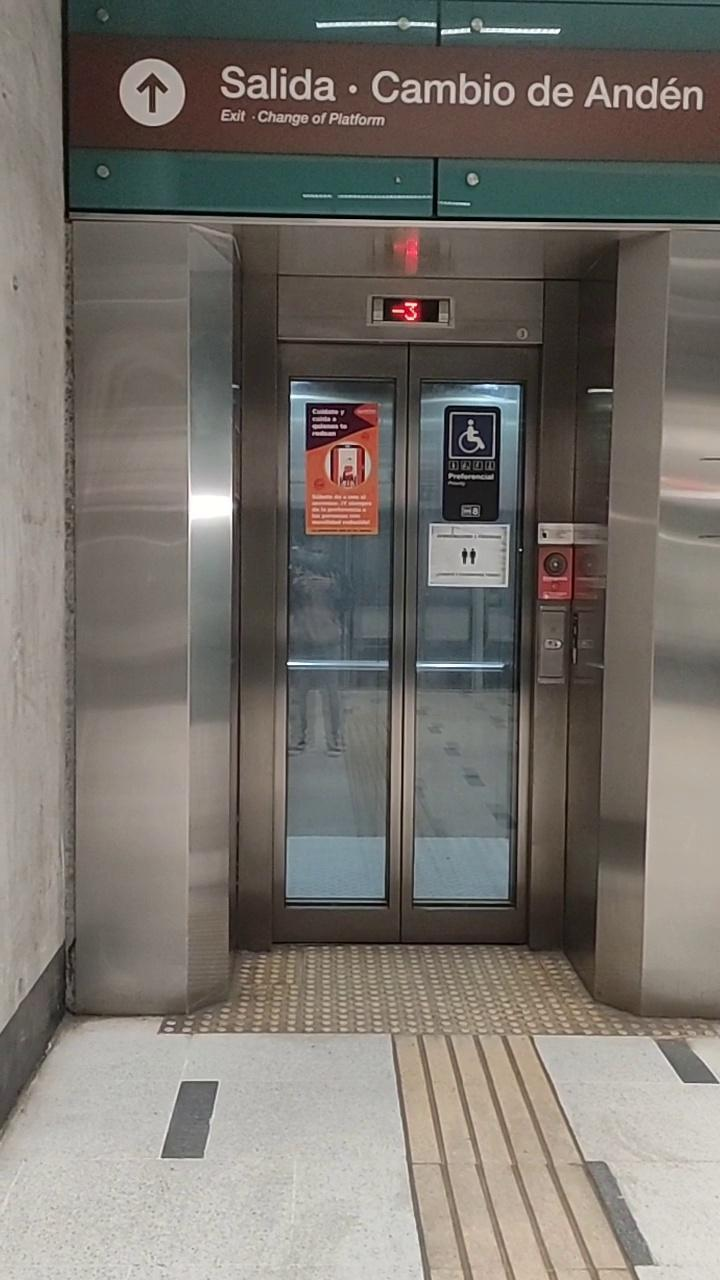handicapped symbol: (447, 406, 499, 466)
up arrow: (134, 70, 172, 114)
